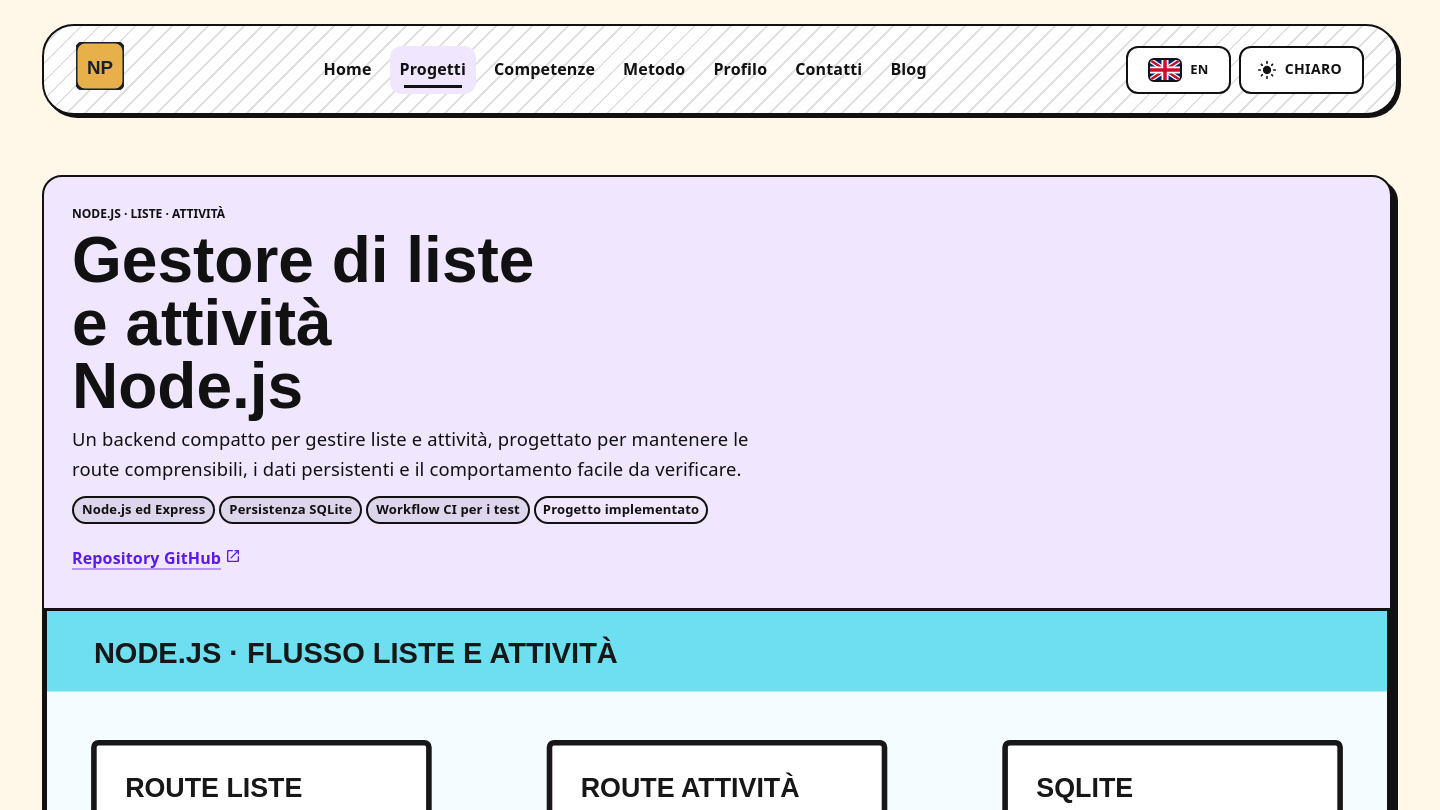
localized application routes › switches to the equivalent localized project detail route and stores the preference
This screenshot has width=1440, height=810.
Click the link with aria-label "Passa all'inglese": (1179, 70) [1126, 46, 1231, 94]
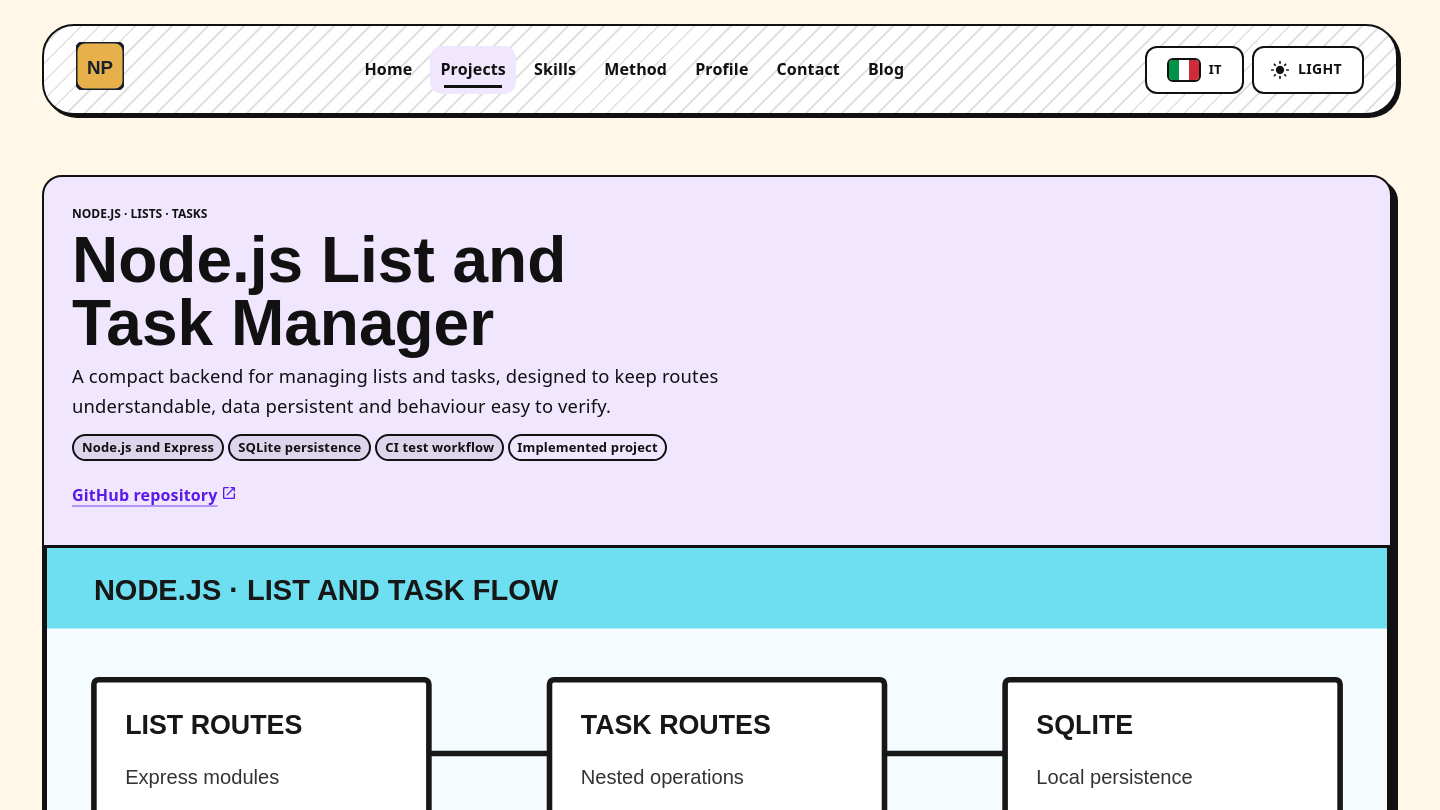
expect the heading "Node.js List and Task Manager" is shown: met, box [72, 229, 570, 355]
